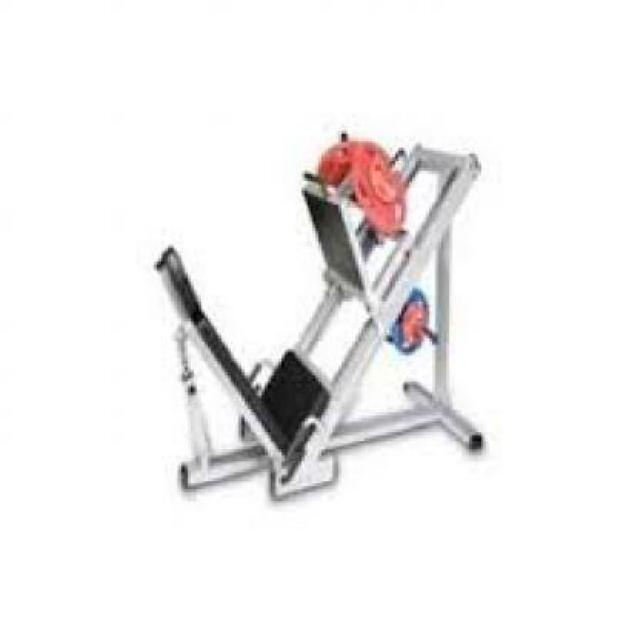leg press: (112, 99, 512, 526)
